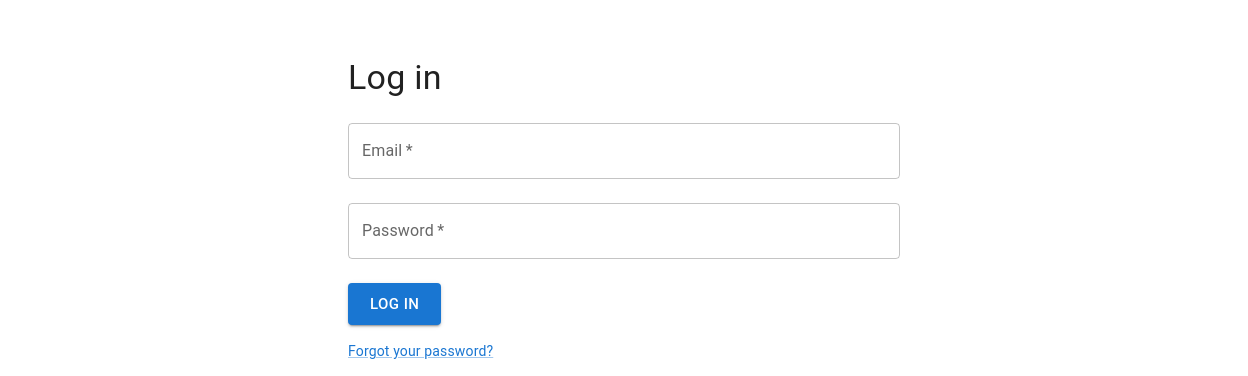
Test case: App routing › returns an anonymous visitor to their originally requested URL after logging in
Expected: the heading "Log in" is shown, [348,57,442,97]
Type "reader@example.com" into the field labelled "Email *". click: (624, 151)
box: [348,123,900,179]
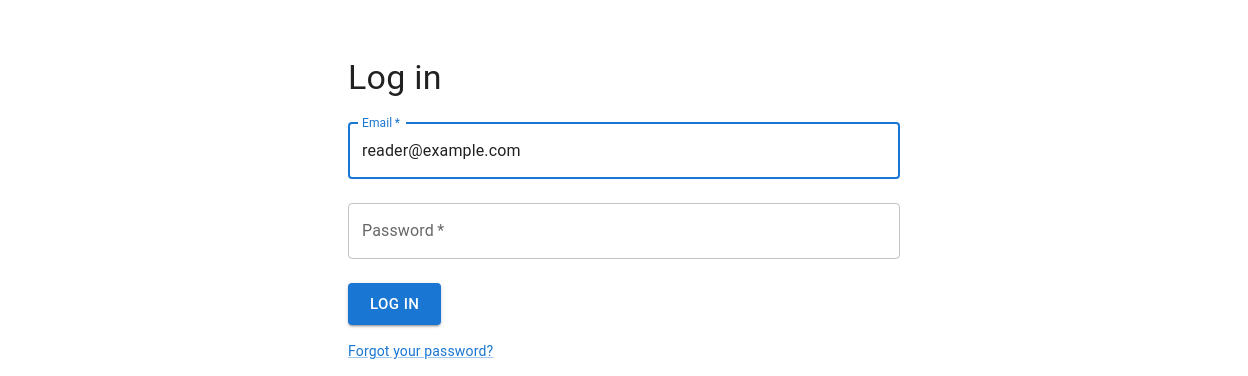
Type "a-good-long-password" into the password field labelled "Password *". click: (624, 231)
box: [348,203,900,259]
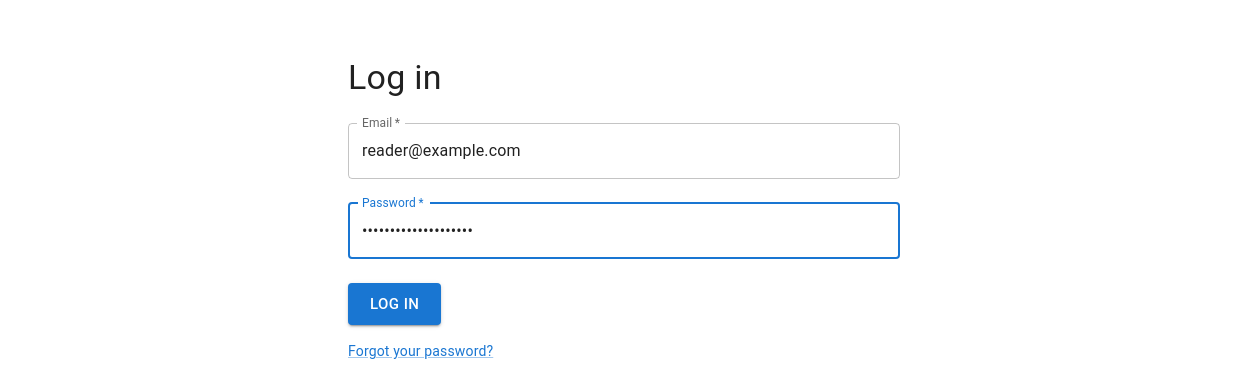
Click the button "Log in". click: (395, 304)
box: [348,283,441,325]
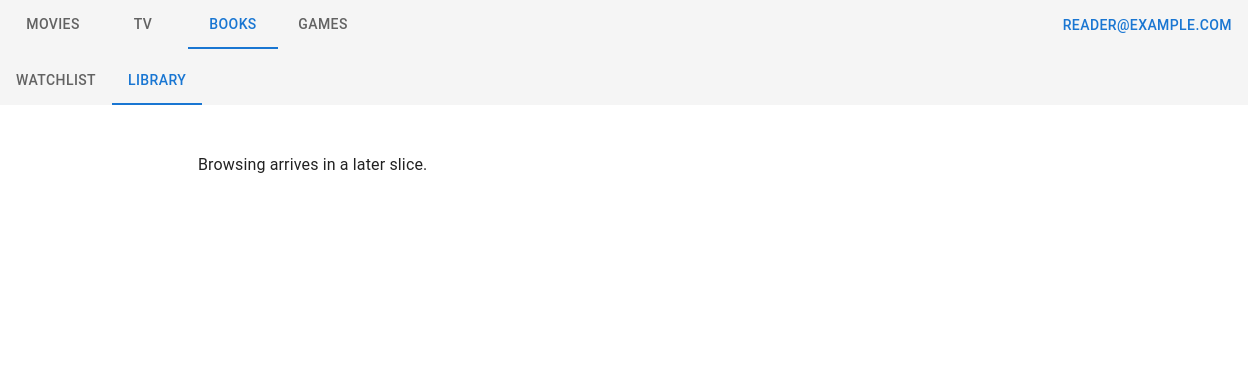
Expected: the tab "Books" is shown, [209,16,257,32]
Expected: the tab "Library" is shown, [128,72,186,88]
